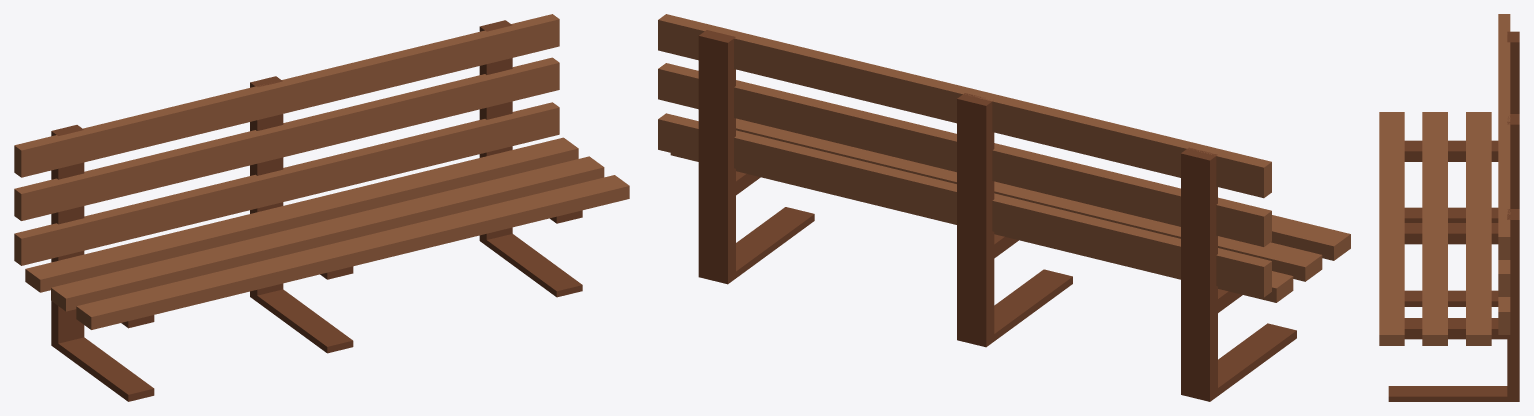
File: bank.fbx
3 renders of one model, left to right at view 1: azimuth 30°, elevation 25°; view 2: azimuth 150°, elevation 25°; view 3: azimuth 270°, elevation 25°, orthographic. The views are drawn at different scales.
Visible parts, largest first — view 1: Cube.007; view 2: Cube.007; view 3: Cube.007.
Boxes of the visible parts, x1=… form: Cube.007: x1=14, y1=14, x2=629, y2=401; Cube.007: x1=658, y1=14, x2=1350, y2=401; Cube.007: x1=1379, y1=14, x2=1519, y2=401.
Size of the model in its own units: 902 by 344 by 240.
